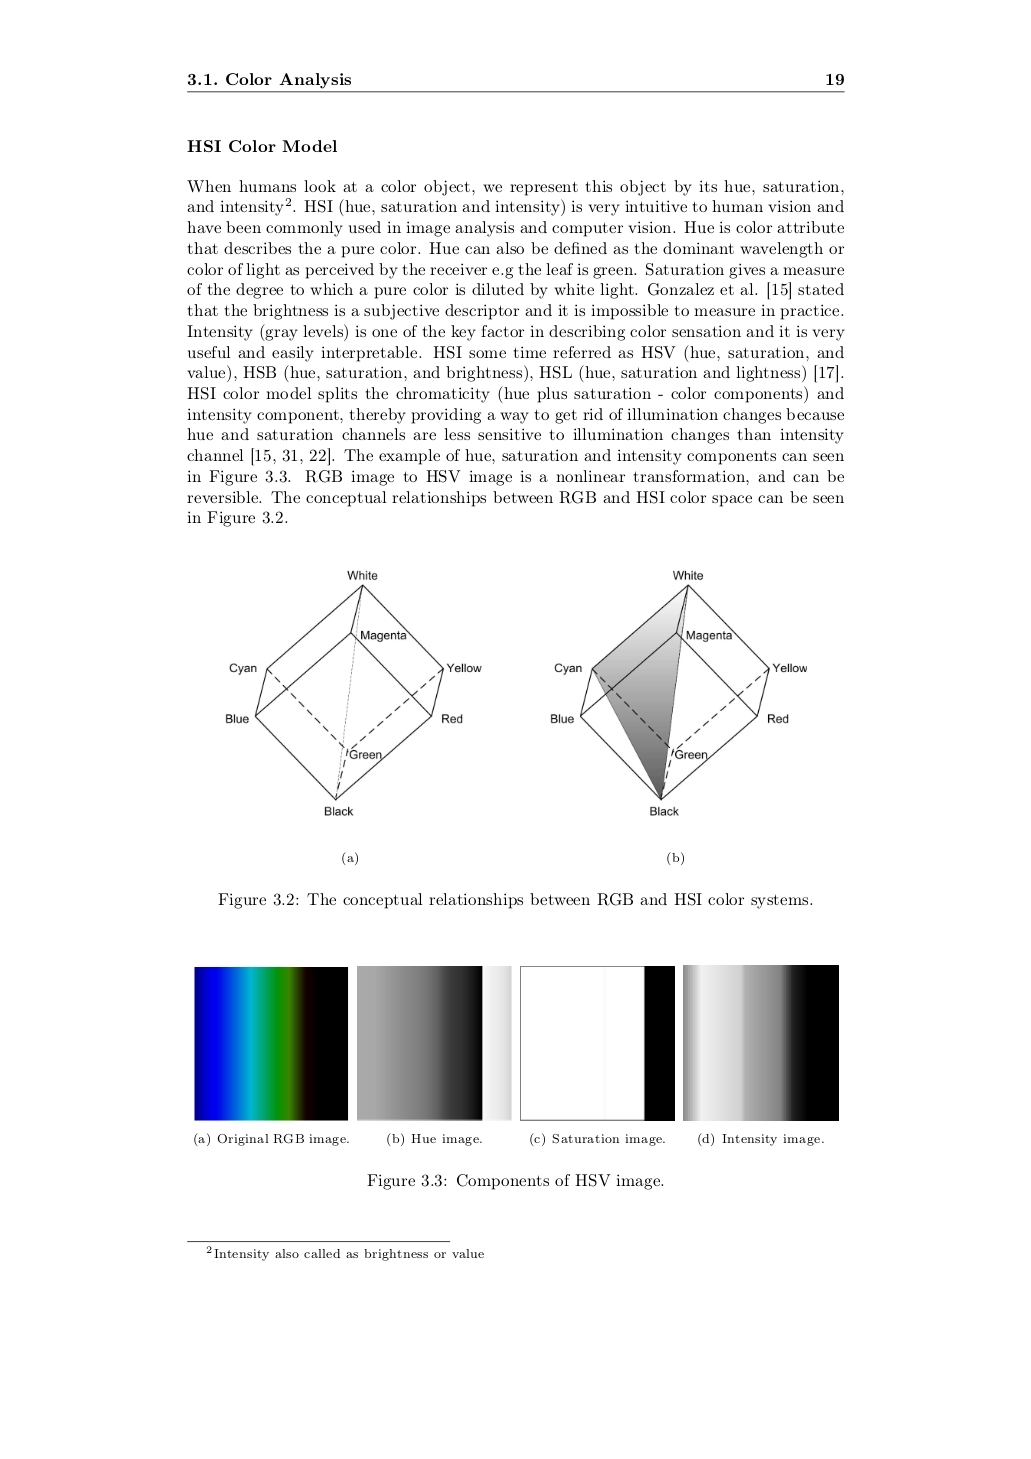figure: (225, 570, 481, 815), (550, 570, 806, 815), (683, 965, 838, 1120), (194, 966, 348, 1120), (357, 966, 511, 1120), (520, 966, 674, 1120)
